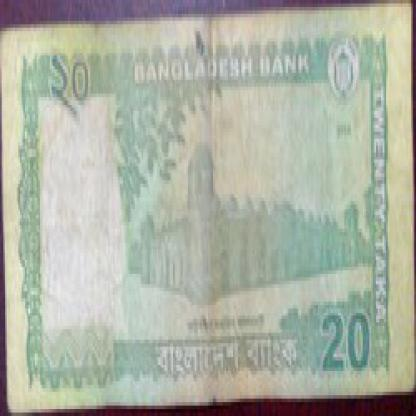Twenty: (36, 48, 107, 132), (316, 301, 384, 378)
